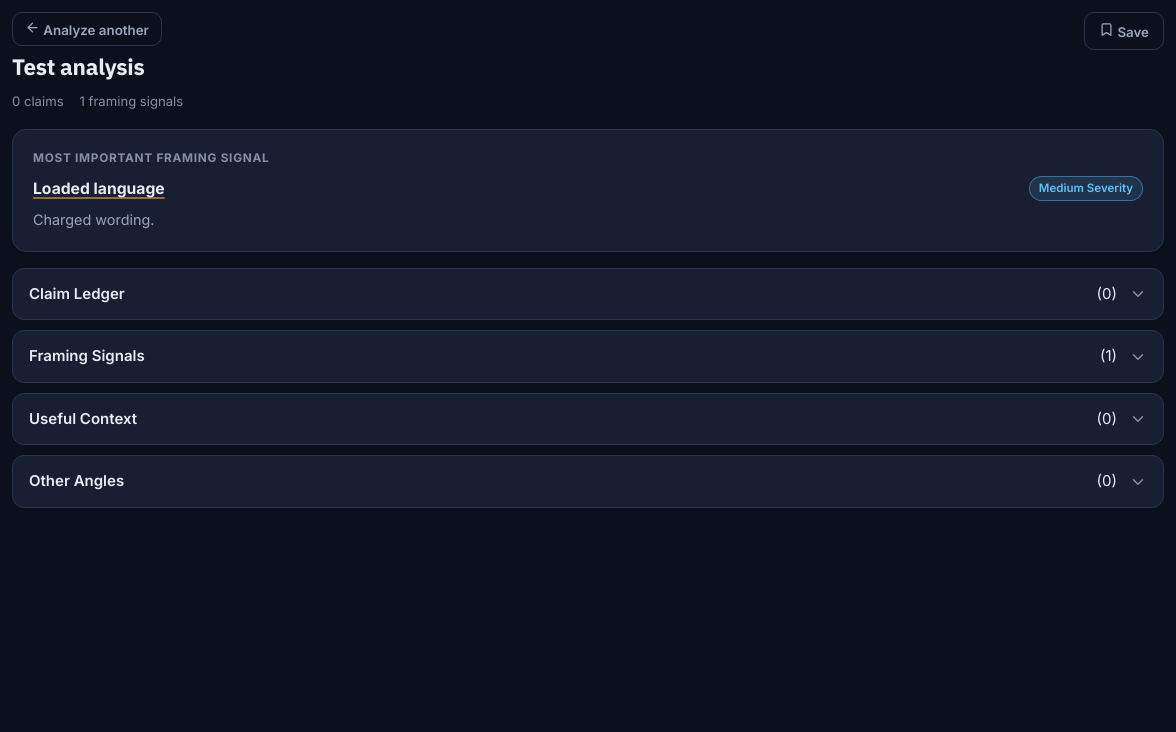
Report gated Save — active session › saves and shows the "Saved" text label, sending the token
Click the button "Save": click(1124, 31) [1084, 12, 1164, 50]
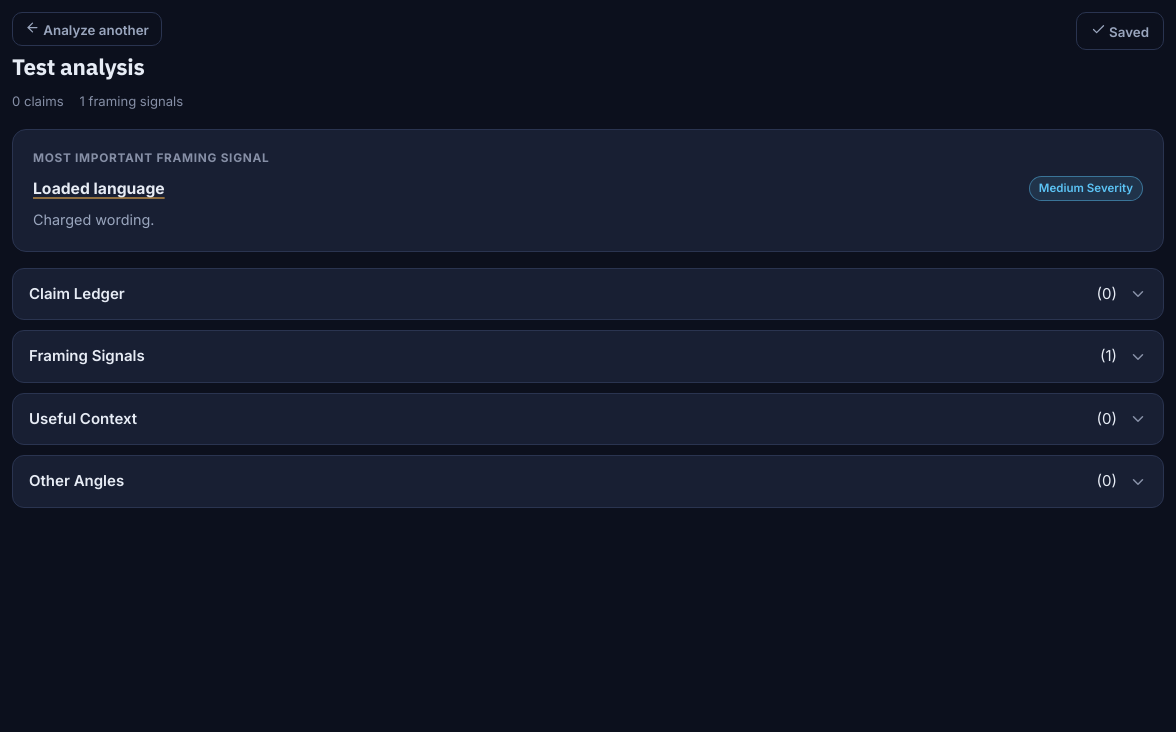
Expected: the button "Saved" is shown, [1076, 12, 1164, 50]
